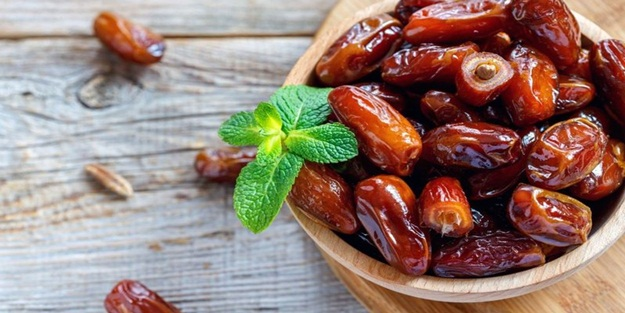hurmaa: (344, 172, 433, 279)
